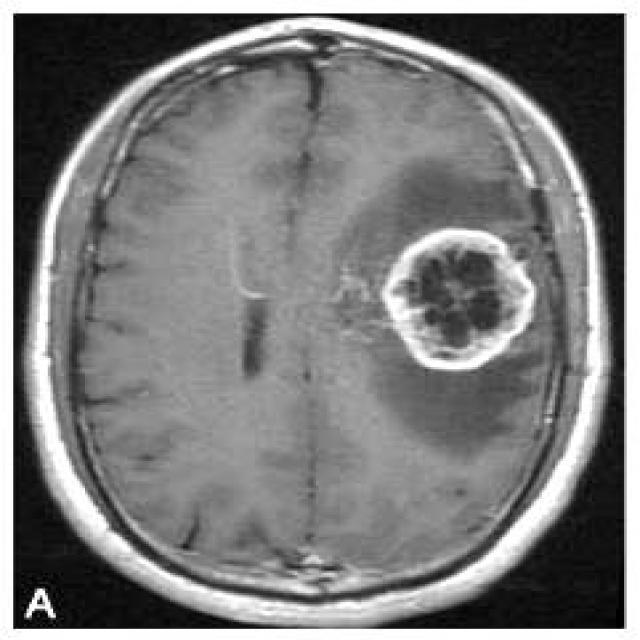Tumor: (376, 225, 553, 382)
